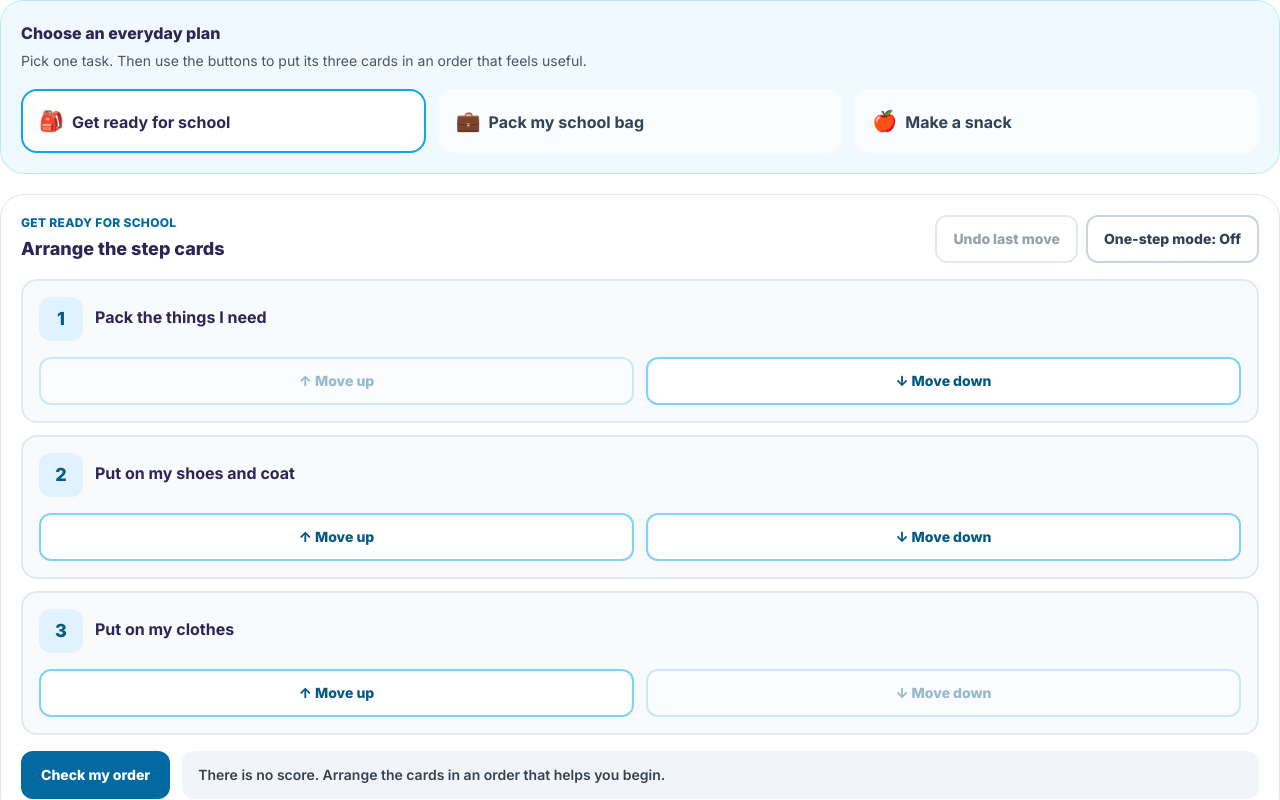
Test: DyspraxiaStepPlannerActivity › provides an optional one-step view without removing button controls
The image size is (1280, 800).
Click the button with aria-label "Turn on one-step mode": (1172, 239) top-left (1086, 215), bottom-right (1259, 263)
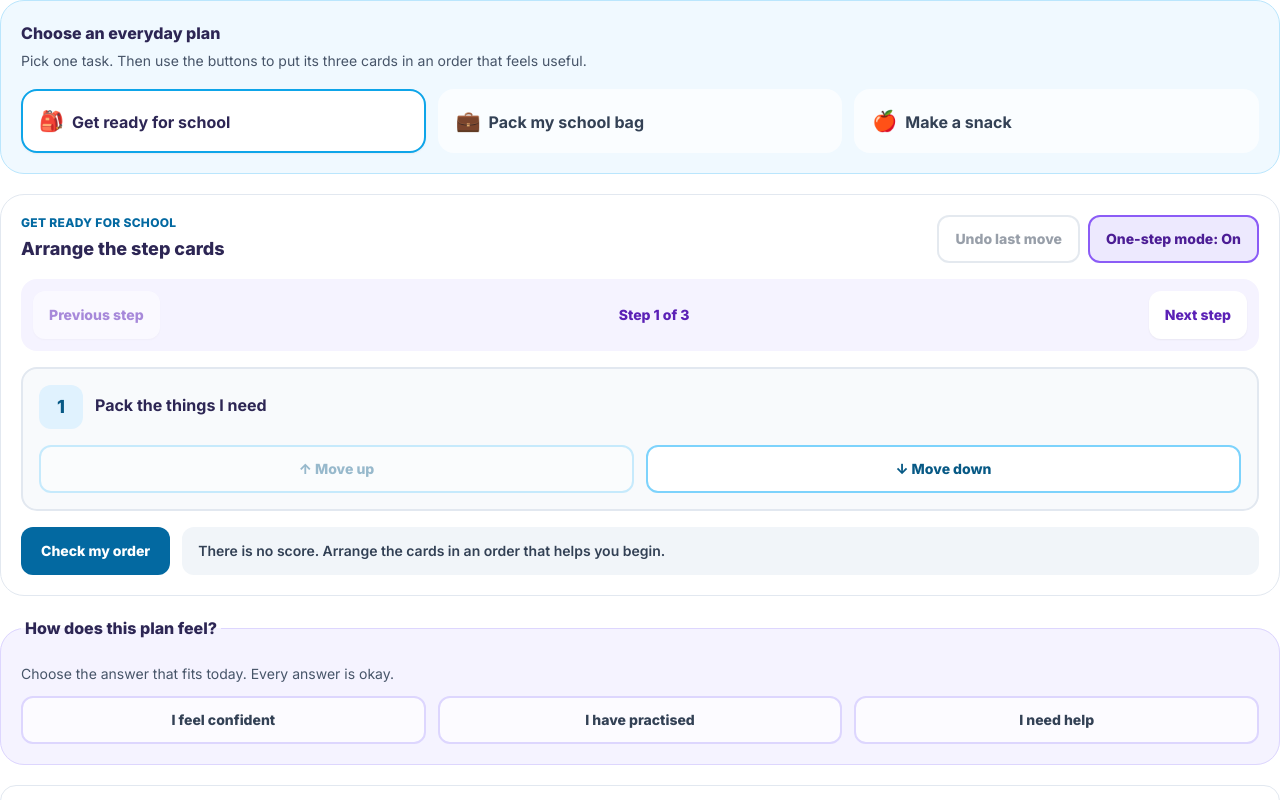
Expected: the button with aria-label "Move Pack the things I need down" is shown, top-left (646, 445), bottom-right (1241, 493)
Result: the text "Step 1 of 3" is shown at top-left (619, 305), bottom-right (690, 325)
Click the button "Next step": (1198, 315) top-left (1149, 291), bottom-right (1247, 339)
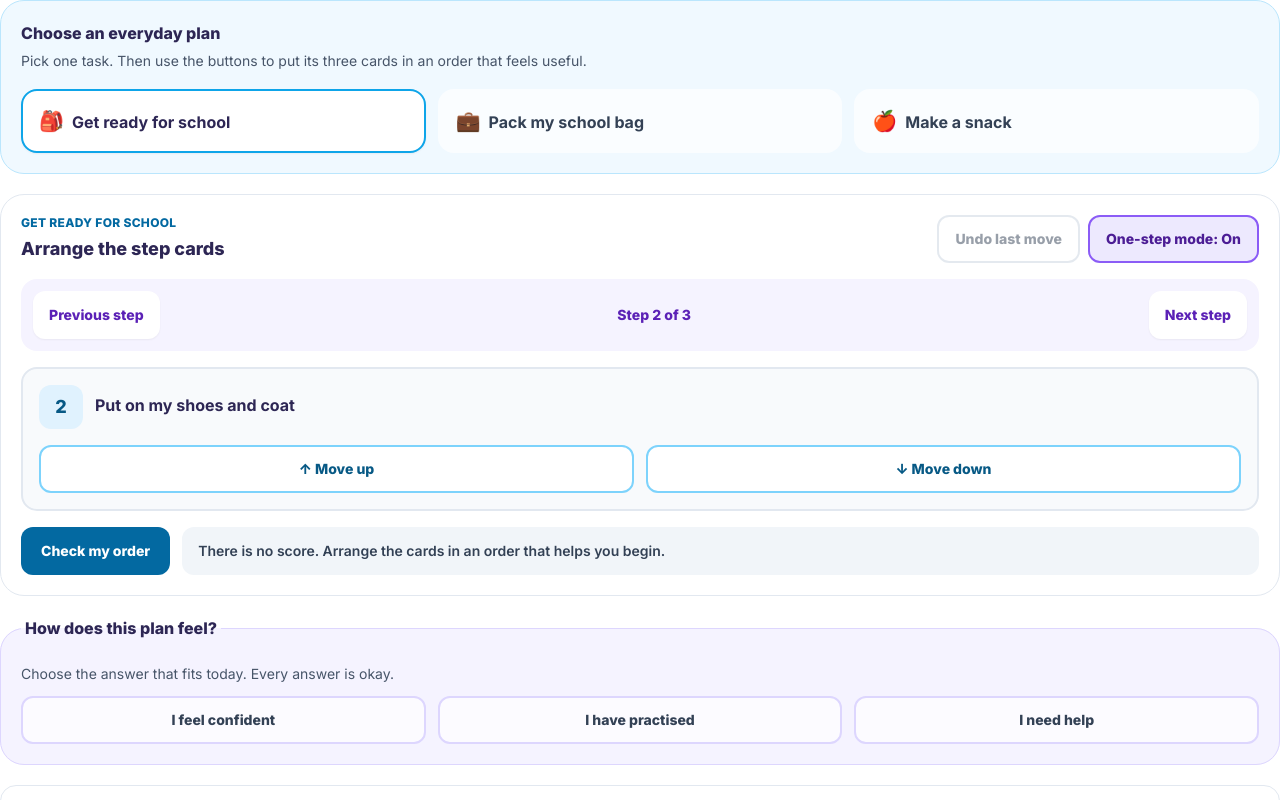
Result: the text "Step 2 of 3" is shown at top-left (617, 305), bottom-right (691, 325)
